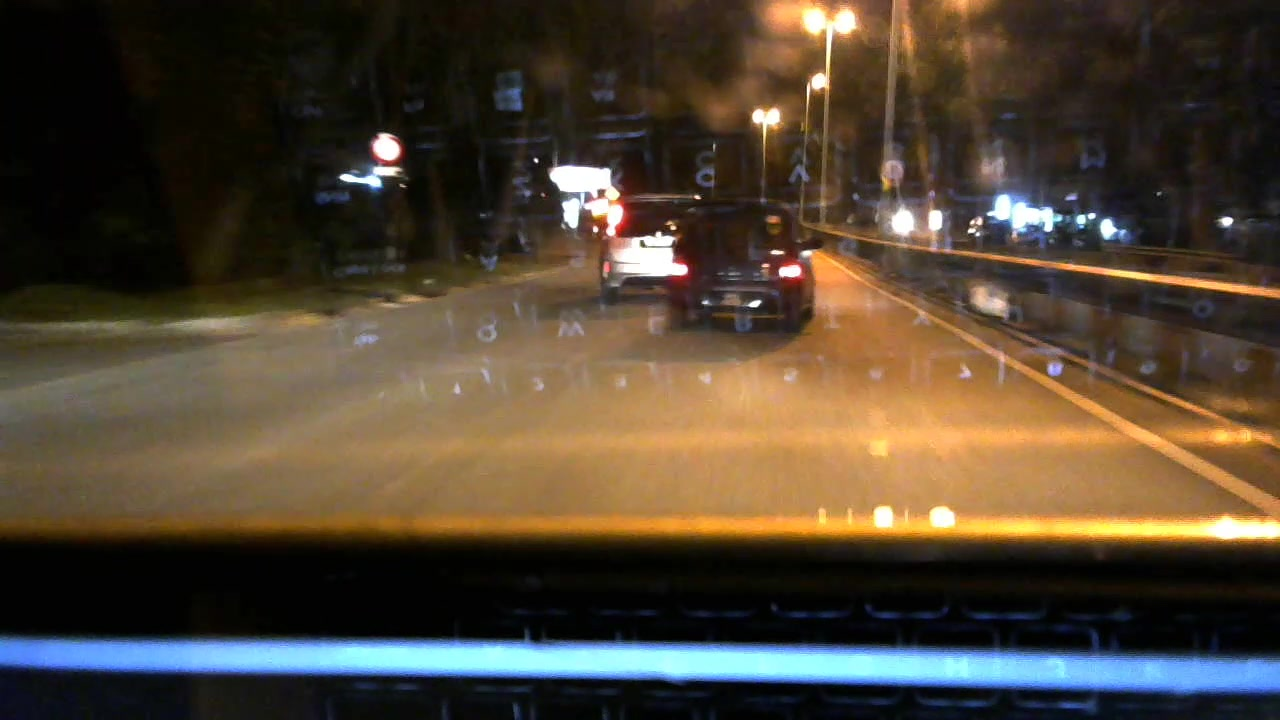Car: (666, 201, 830, 334), (589, 185, 693, 309)
